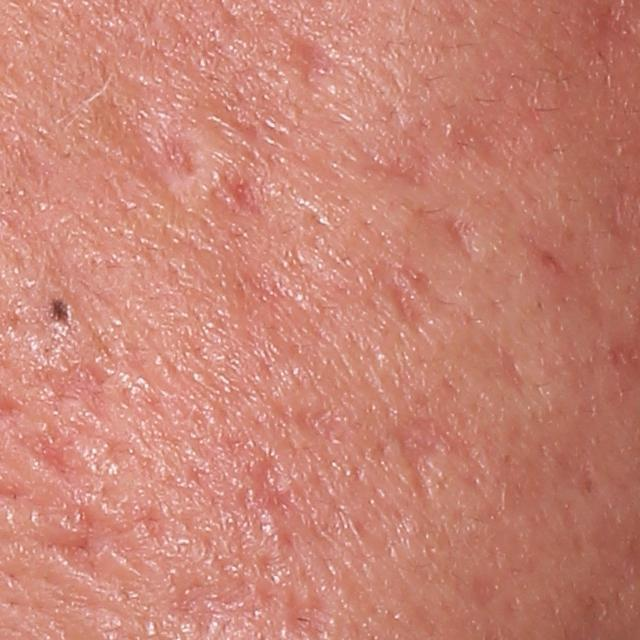atrophic_scar: (394, 105, 539, 178), (392, 413, 478, 512), (528, 215, 602, 302), (233, 451, 297, 545), (50, 520, 132, 584), (45, 356, 108, 421), (24, 440, 98, 492), (274, 24, 330, 92), (376, 285, 421, 345), (212, 172, 266, 219), (434, 220, 480, 273), (151, 128, 197, 173)
